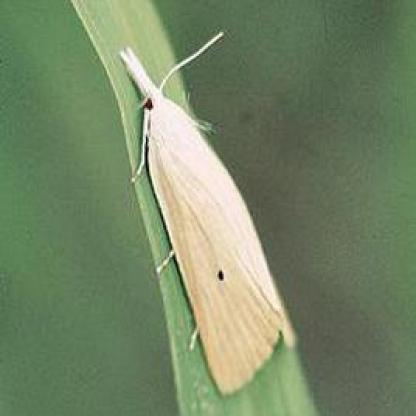stem-borer: (121, 32, 297, 398)
